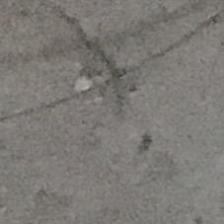Crack: (12, 0, 224, 117)
Non_Crack: (0, 123, 224, 224)
